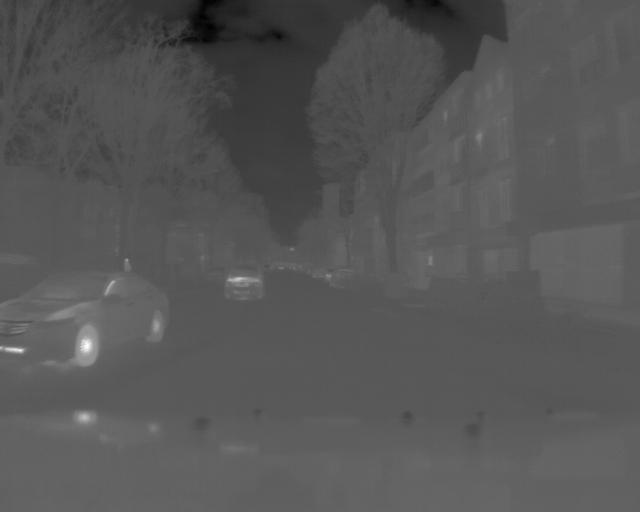car: (1, 270, 175, 370), (219, 263, 266, 304)
person: (123, 255, 134, 273)
